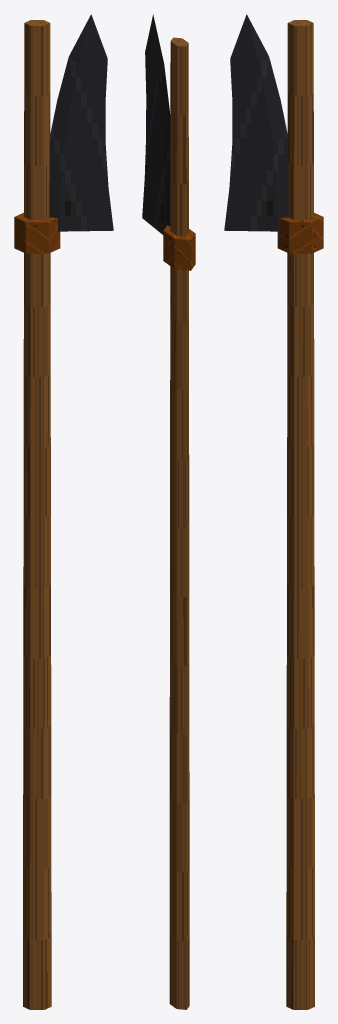
File: guja.glb
The picture shows the model from 3 angles, left to right: view 1: azimuth 90°, elevation 25°; view 2: azimuth 210°, elevation 25°; view 3: azimuth 270°, elevation 25°; orthographic projection. The views are drawn at different scales.
Visible parts, largest first — view 1: asta, hoja, virola; view 2: asta, hoja, virola; view 3: asta, hoja, virola.
Part boxes in pixels (x1,y1,x2,y2): asta: (23,20,51,1009); hoja: (49,14,113,231); virola: (14,212,60,253); asta: (169,37,189,1009); hoja: (142,14,170,234); virola: (163,225,195,270); asta: (286,20,314,1009); hoja: (224,14,288,231); virola: (277,212,323,253).
Size of the model in its own units: 0.05 by 2.2 by 0.2.
1 material, 1 textured.
